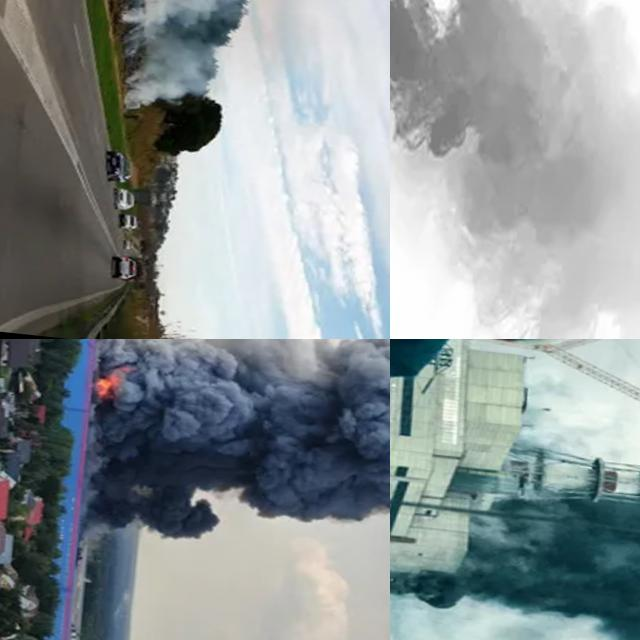smoke: (390, 0, 640, 339), (75, 339, 390, 564), (452, 482, 640, 638), (118, 33, 244, 124), (113, 0, 309, 49)
